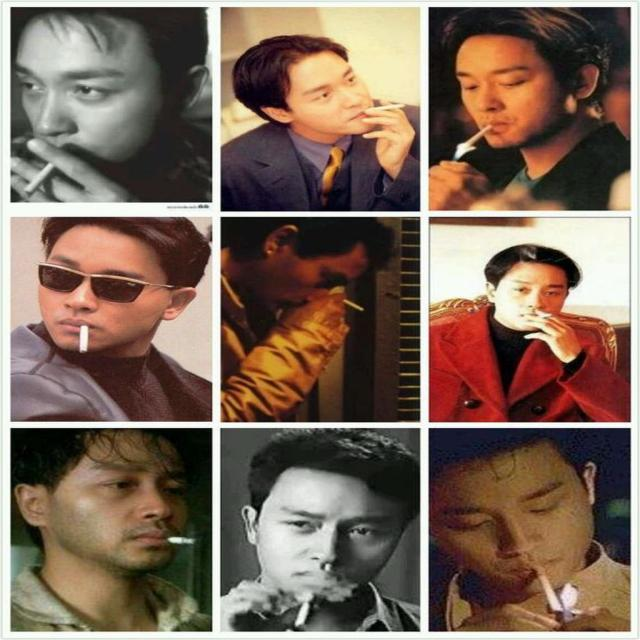smoking: (432, 439, 614, 622), (432, 14, 592, 213), (15, 16, 190, 197), (241, 455, 410, 638), (32, 222, 208, 376), (15, 436, 200, 580), (245, 34, 415, 178), (235, 220, 403, 328), (472, 244, 592, 371)
